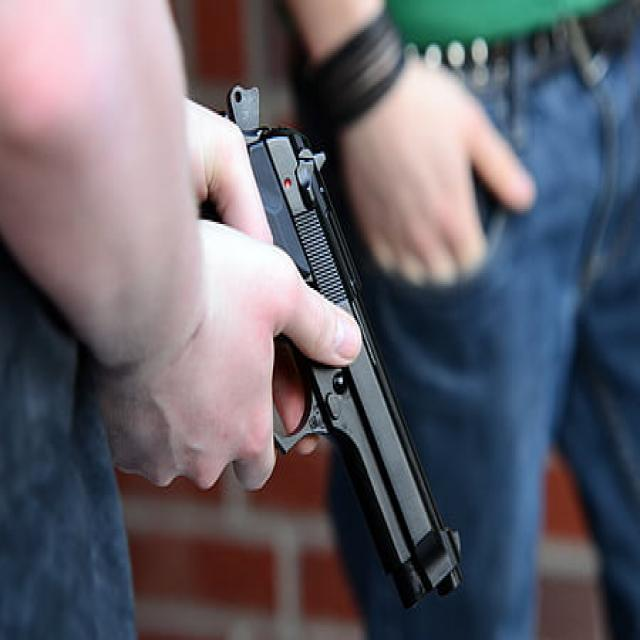gun: (211, 81, 465, 604)
